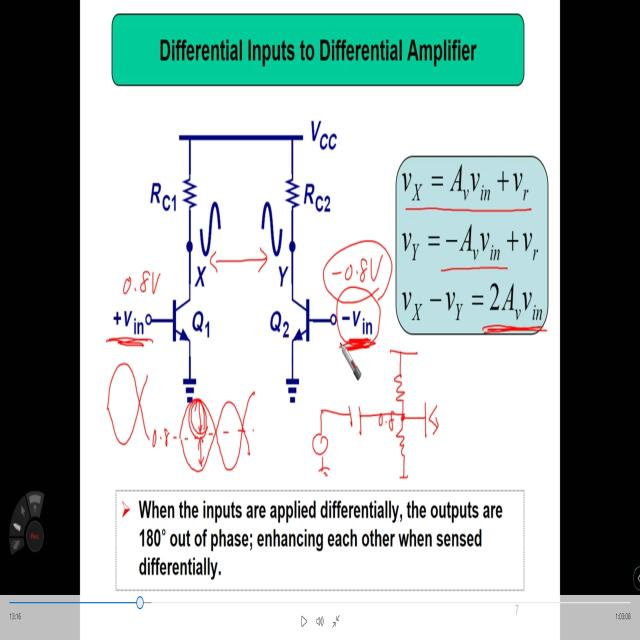panseo: (98, 341, 277, 502), (296, 334, 454, 503), (313, 237, 395, 304), (106, 259, 172, 306)
